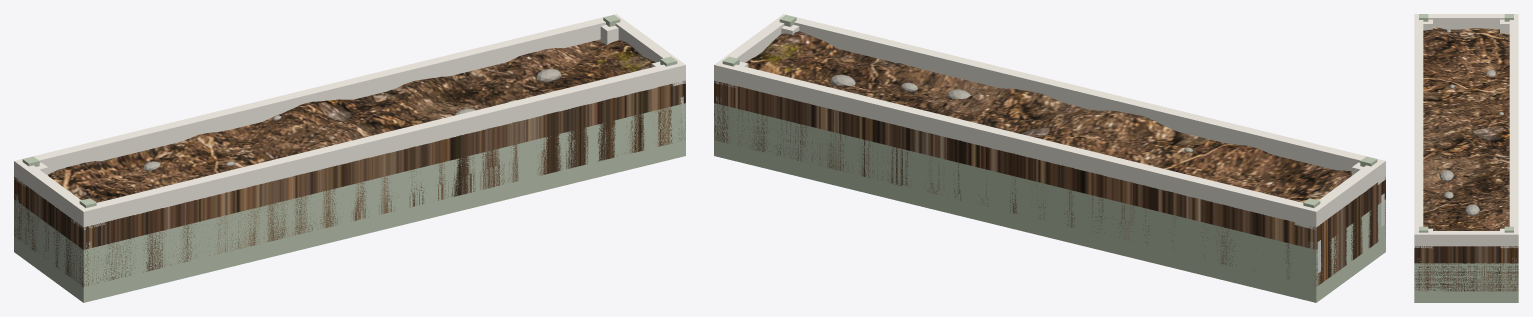
File: s03-untreated-edge-north.glb
The picture shows the model from 3 angles, left to right: view 1: azimuth 30°, elevation 25°; view 2: azimuth 150°, elevation 25°; view 3: azimuth 270°, elevation 25°; orthographic projection. The views are drawn at different scales.
Parts seen in each view (by area): view 1: S03_Physical_Untreated_Soil_Top_RealRelief, S03_Frame_Sage_Solid_Bottom, S03_Cream_Rim_N, S03_Cream_Rim_S, S03_Cream_Rim_W, S03_Cream_Rim_E; view 2: S03_Physical_Untreated_Soil_Top_RealRelief, S03_Frame_Sage_Solid_Bottom, S03_Cream_Rim_S, S03_Cream_Rim_N, S03_Cream_Rim_W, S03_Cream_Rim_E; view 3: S03_Physical_Untreated_Soil_Top_RealRelief, S03_Frame_Sage_Solid_Bottom, S03_Cream_Rim_S, S03_Cream_Rim_N, S03_Cream_Rim_E, S03_Cream_Rim_W, S03_Cream_Protective_Corner_1_0, S03_Cream_Protective_Corner_1_1, S03_Embedded_Stone_008, S03_Cream_Protective_Corner_0_0, S03_Embedded_Stone_036, S03_Cream_Protective_Corner_0_1.
Part boxes in pixels (x1=…): S03_Physical_Untreated_Soil_Top_RealRelief: x1=14, y1=40, x2=685, y2=286; S03_Frame_Sage_Solid_Bottom: x1=14, y1=103, x2=685, y2=302; S03_Cream_Rim_N: x1=77, y1=60, x2=685, y2=227; S03_Cream_Rim_S: x1=14, y1=14, x2=621, y2=179; S03_Cream_Rim_W: x1=14, y1=159, x2=93, y2=226; S03_Cream_Rim_E: x1=613, y1=14, x2=685, y2=80; S03_Physical_Untreated_Soil_Top_RealRelief: x1=714, y1=31, x2=1385, y2=286; S03_Frame_Sage_Solid_Bottom: x1=714, y1=103, x2=1385, y2=302; S03_Cream_Rim_S: x1=714, y1=60, x2=1322, y2=227; S03_Cream_Rim_N: x1=778, y1=14, x2=1385, y2=176; S03_Cream_Rim_W: x1=1307, y1=159, x2=1385, y2=227; S03_Cream_Rim_E: x1=714, y1=14, x2=784, y2=81; S03_Physical_Untreated_Soil_Top_RealRelief: x1=1414, y1=27, x2=1518, y2=291; S03_Frame_Sage_Solid_Bottom: x1=1414, y1=263, x2=1518, y2=302; S03_Cream_Rim_S: x1=1509, y1=14, x2=1518, y2=246; S03_Cream_Rim_N: x1=1414, y1=14, x2=1423, y2=246; S03_Cream_Rim_E: x1=1414, y1=231, x2=1518, y2=246; S03_Cream_Rim_W: x1=1414, y1=14, x2=1518, y2=29; S03_Cream_Protective_Corner_1_0: x1=1500, y1=228, x2=1518, y2=248; S03_Cream_Protective_Corner_1_1: x1=1414, y1=228, x2=1432, y2=248; S03_Embedded_Stone_008: x1=1465, y1=204, x2=1479, y2=215; S03_Cream_Protective_Corner_0_0: x1=1500, y1=19, x2=1509, y2=34; S03_Embedded_Stone_036: x1=1439, y1=170, x2=1453, y2=181; S03_Cream_Protective_Corner_0_1: x1=1423, y1=19, x2=1432, y2=30.
Bounding box in the file's own units: 1 × 0.149 × 0.2.
7 materials, 1 textured.
